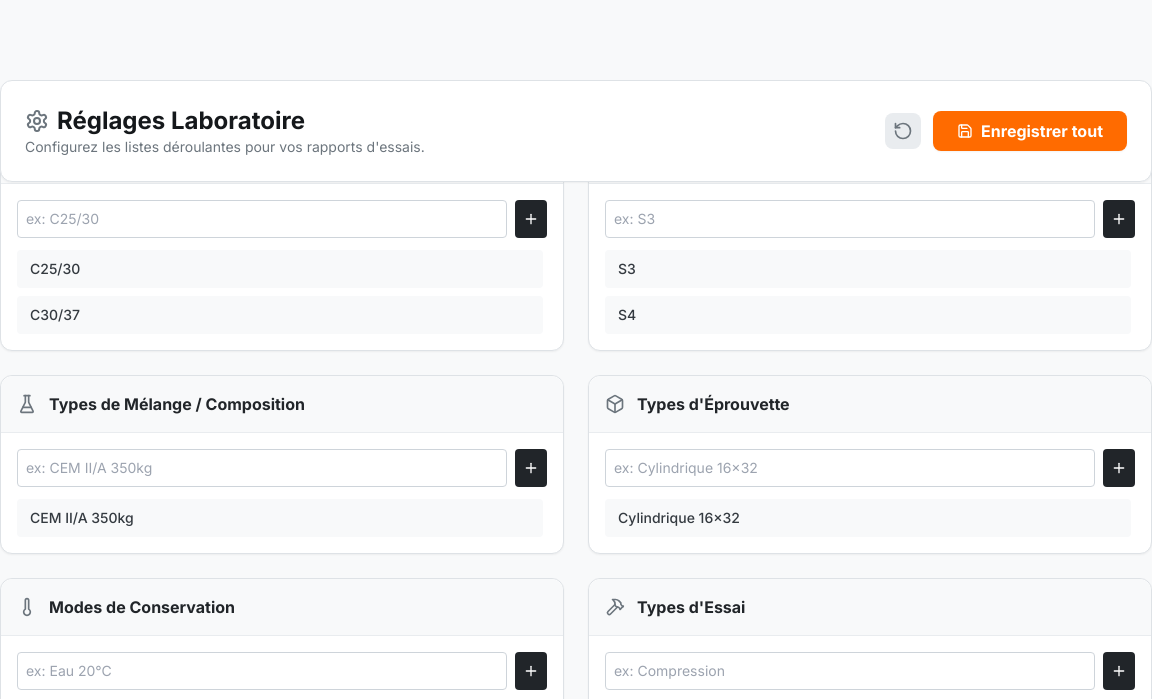
Test: SettingsManager Component › adds a new item to a list
Expected: the heading "Classes de Résistance" is shown, [49,143,224,167]
Type "C35/45" into the field with placeholder "ex: C25/30" at (262,219), box [17,200,507,238]
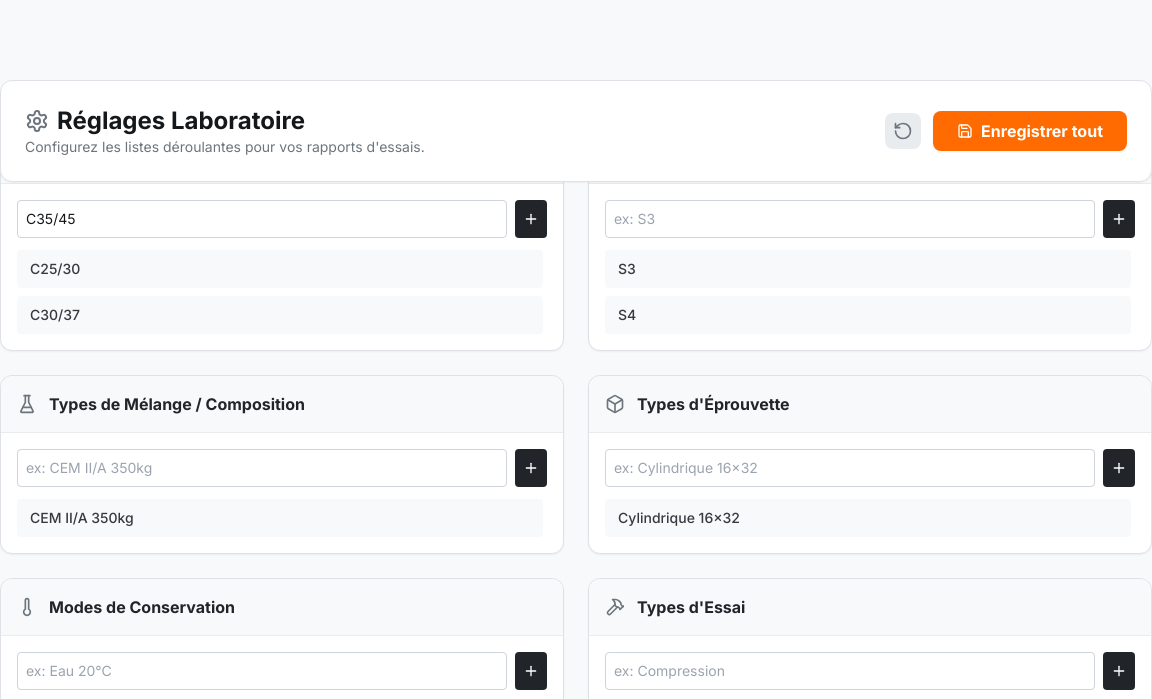
Click the button with test id "add-concrete-classes" at (531,219), box [515,200,547,238]
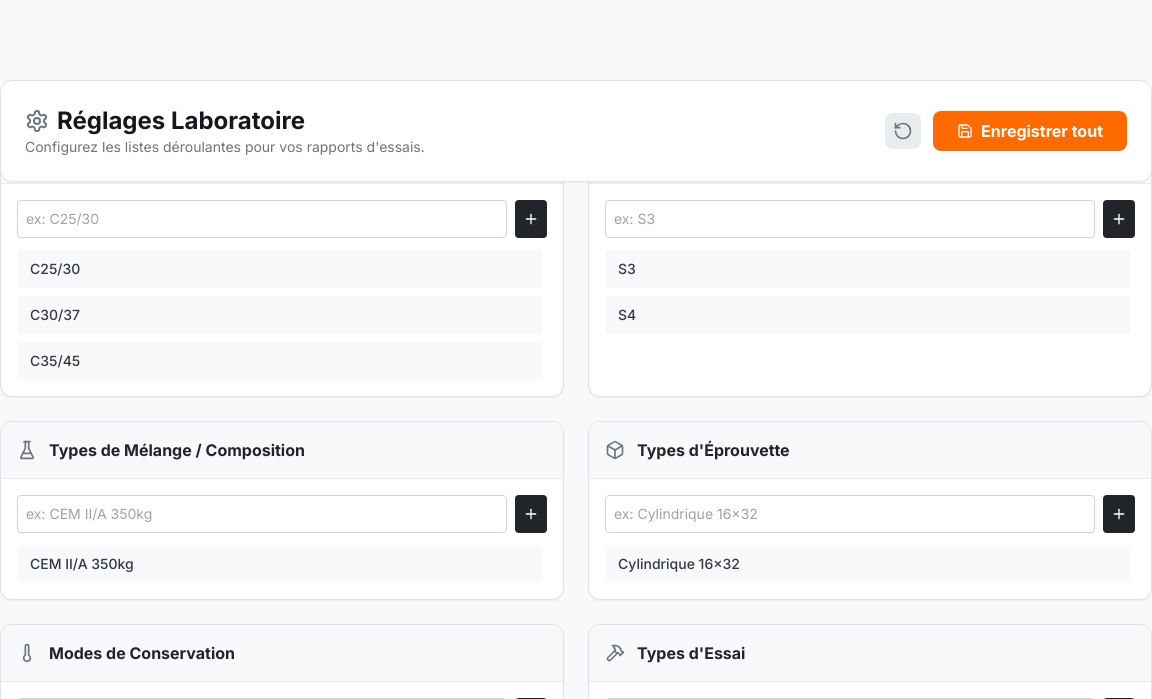
Now the text "C35/45" is shown, box [30,351,80,371]
